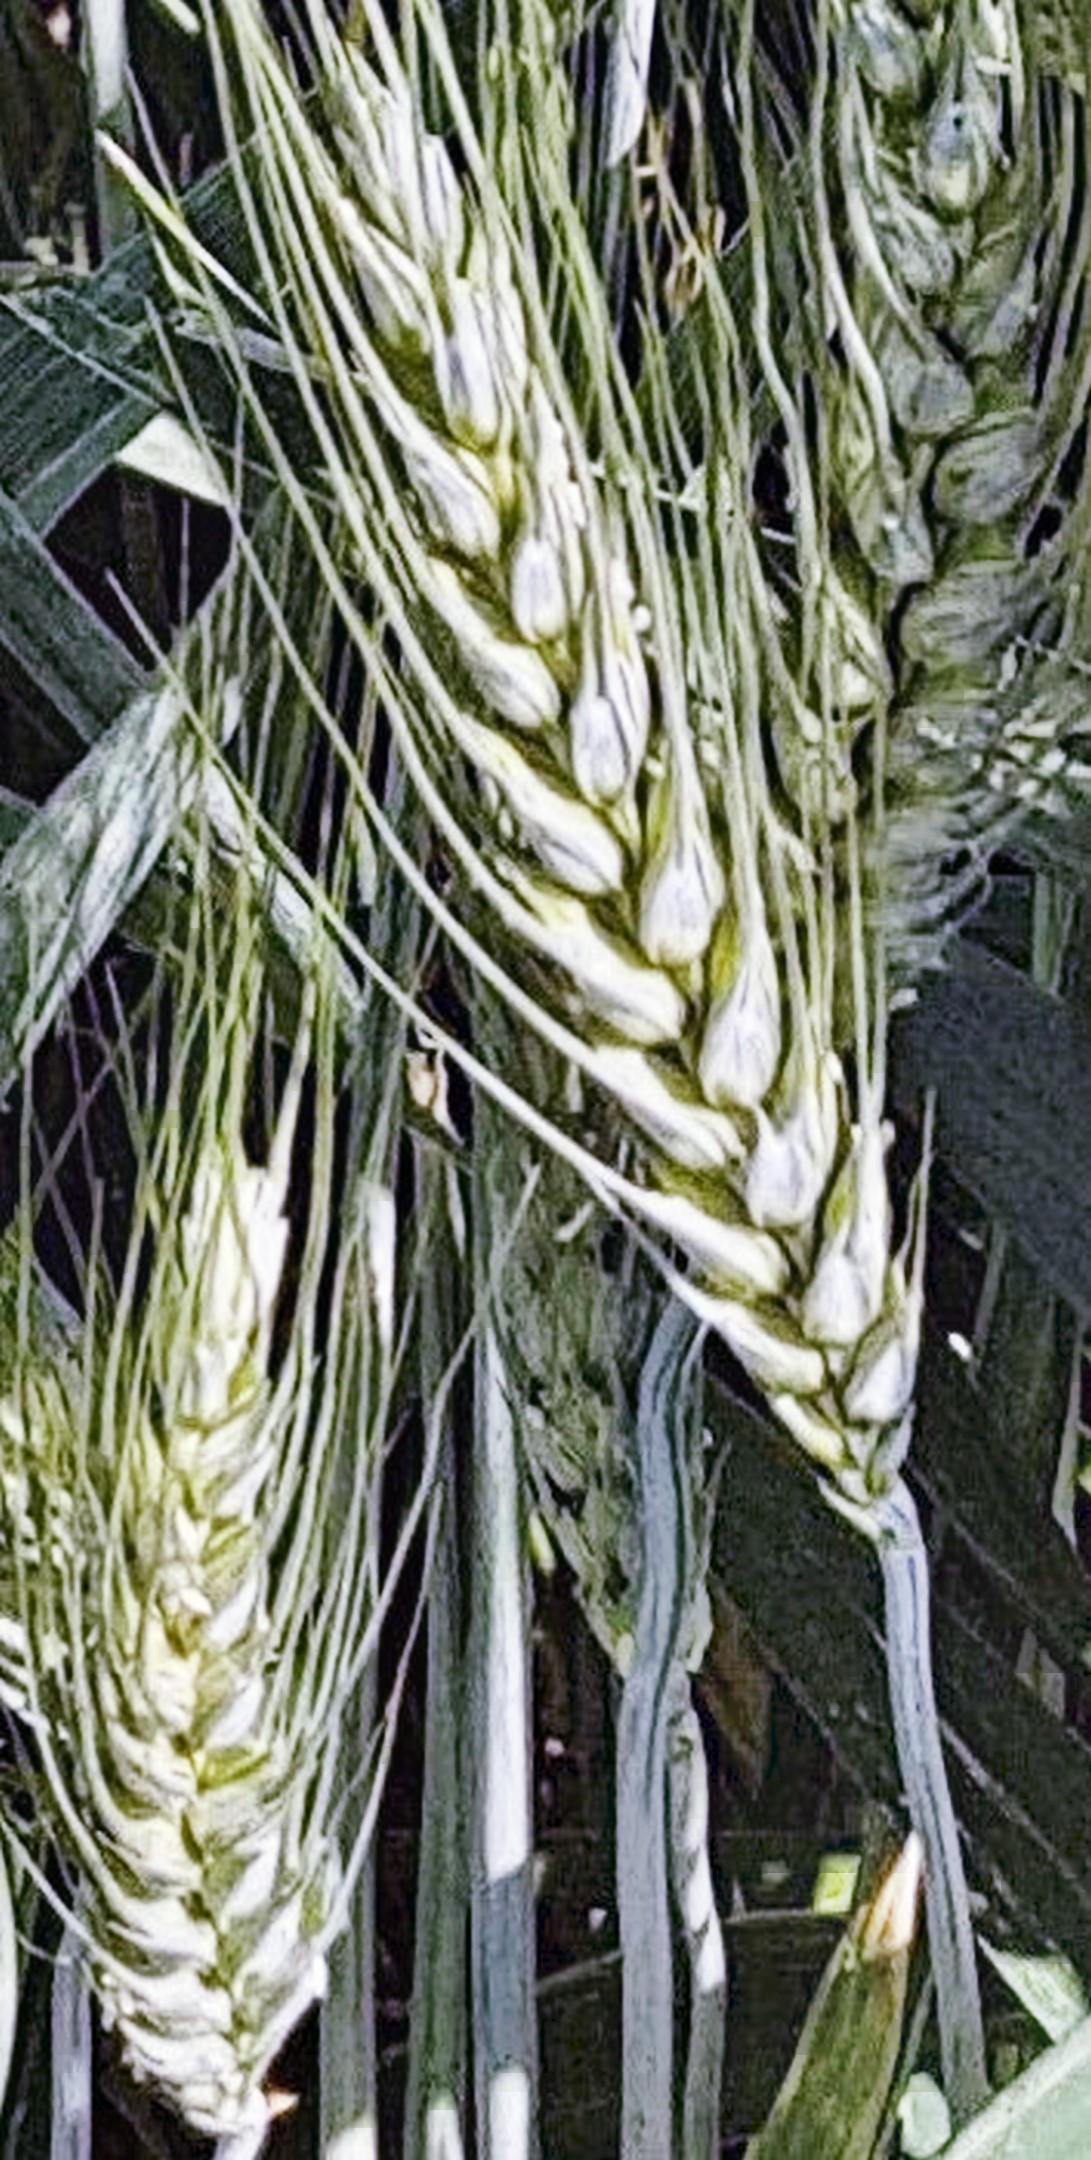Healthy Wheat: (228, 49, 975, 1419)
